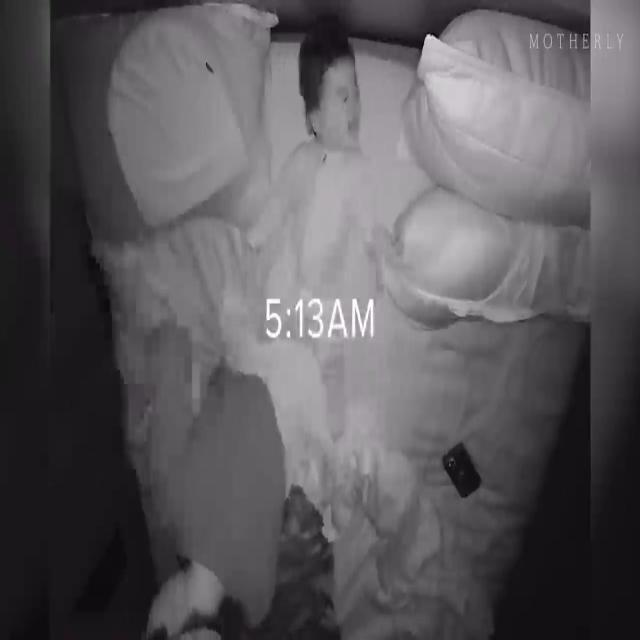baby: (253, 27, 392, 419)
